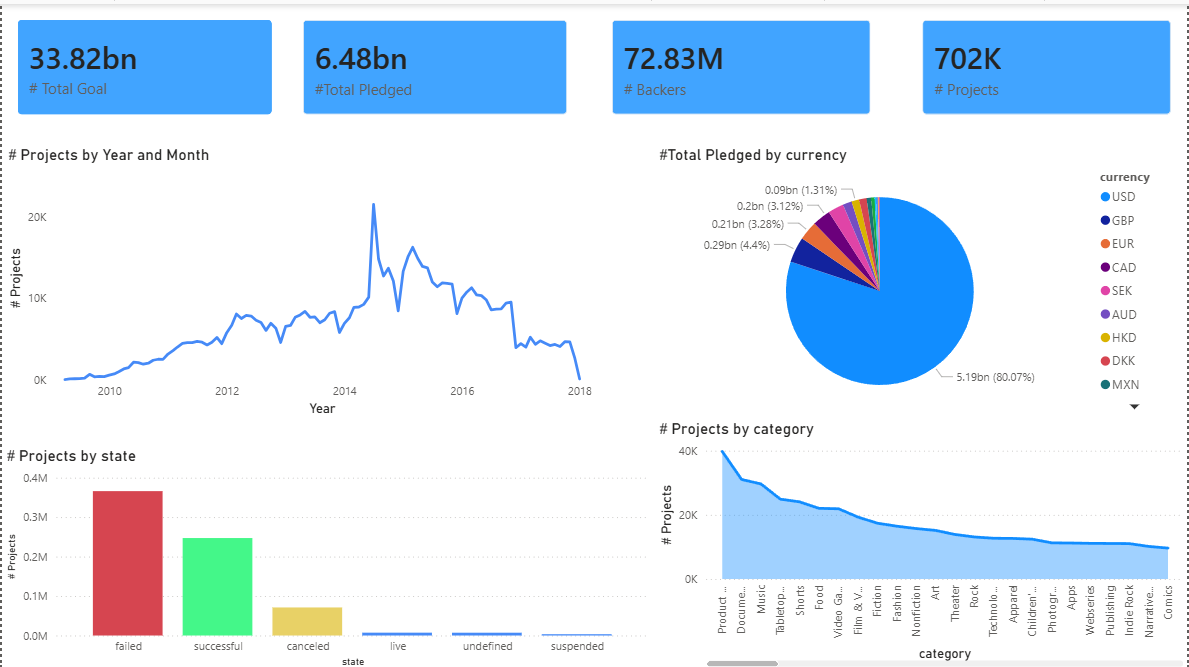

The dashboard page shown, as its layout file describes it:
{"tool":"powerbi","page":{"name":"Page 1","canvas":[1280,720],"ordinal":0},"visuals":[{"type":"cardVisual","fields":{"Data":["KSProjects.# Projects"]},"box":[977,0,302.4,136.1],"z":0},{"type":"cardVisual","fields":{"Data":["KSProjects.# Backers"]},"box":[640.6,0,313.7,136.1],"z":1000},{"type":"cardVisual","fields":{"Data":["KSProjects.# Total Goal"]},"box":[0,0,308,136.1],"z":2000},{"type":"cardVisual","fields":{"Data":["KSProjects.#Total Pledged"]},"box":[308,0,319.4,136.1],"z":3000},{"type":"clusteredColumnChart","fields":{"Category":["KSProjects.state"],"Y":["KSProjects.# Projects"]},"box":[0,477.9,703.7,242.7],"z":4000},{"type":"areaChart","fields":{"Category":["KSProjects.category"],"Y":["KSProjects.# Projects"]},"box":[703.7,447.8,575.7,272.8],"z":5000},{"type":"lineChart","fields":{"Y":["KSProjects.# Projects"],"Category":["KSProjects.launched.Variation.Date Hierarchy.Year","KSProjects.launched.Variation.Date Hierarchy.Month"]},"box":[1.6,152.2,639.6,296.3],"z":6000},{"type":"pieChart","fields":{"Category":["KSProjects.currency"],"Y":["KSProjects.#Total Pledged"]},"box":[703.7,152.4,558.8,295.4],"z":7000}]}

Visuals, with their boxes in screenshot pixels (x1, y1, x2, y2), scaled from the page's 1280x720 canvas onto the 1189x667 screenshot:
cardVisual - KSProjects.# Projects: {"x1": 908, "y1": 0, "x2": 1188, "y2": 126}
cardVisual - KSProjects.# Backers: {"x1": 595, "y1": 0, "x2": 886, "y2": 126}
cardVisual - KSProjects.# Total Goal: {"x1": 0, "y1": 0, "x2": 286, "y2": 126}
cardVisual - KSProjects.#Total Pledged: {"x1": 286, "y1": 0, "x2": 583, "y2": 126}
clusteredColumnChart - KSProjects.state x KSProjects.# Projects: {"x1": 0, "y1": 443, "x2": 654, "y2": 666}
areaChart - KSProjects.category x KSProjects.# Projects: {"x1": 654, "y1": 415, "x2": 1188, "y2": 666}
lineChart - KSProjects.# Projects x KSProjects.launched.Variation.Date Hierarchy.Year: {"x1": 1, "y1": 141, "x2": 596, "y2": 415}
pieChart - KSProjects.currency x KSProjects.#Total Pledged: {"x1": 654, "y1": 141, "x2": 1173, "y2": 415}
